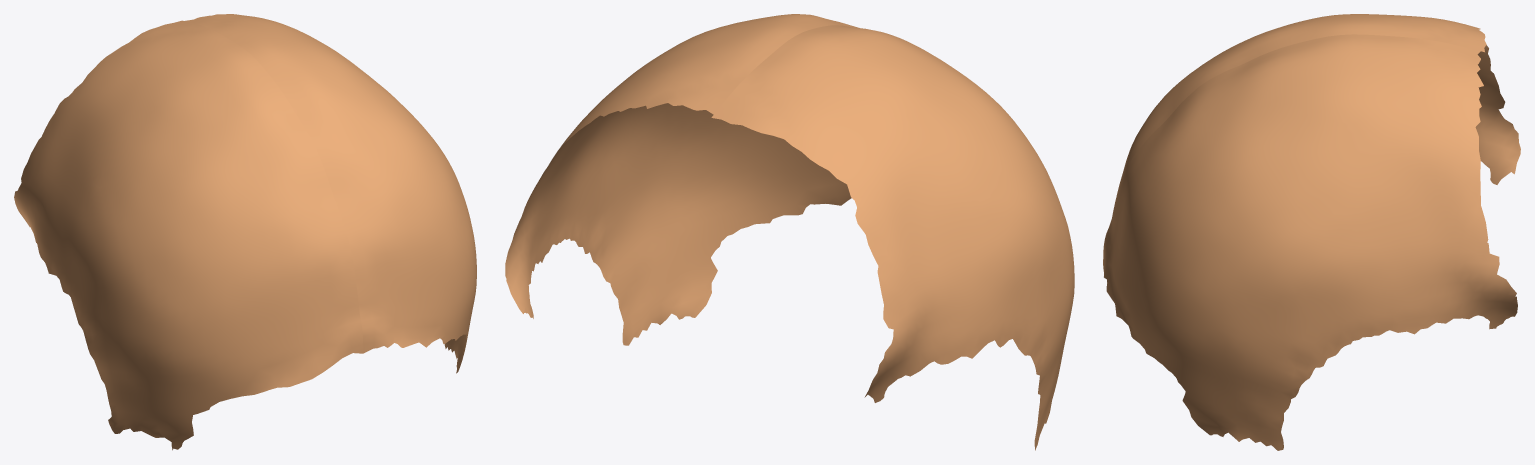
File: Parietale.fbx
The picture shows the model from 3 angles, left to right: view 1: azimuth 30°, elevation 25°; view 2: azimuth 150°, elevation 25°; view 3: azimuth 270°, elevation 25°; orthographic projection. The views are drawn at different scales.
Visible parts, largest first — view 1: Parietale; view 2: Parietale; view 3: Parietale.
Boxes of the visible parts, x1,y1,x2,y2 form: Parietale: (14, 14, 476, 450); Parietale: (505, 14, 1074, 450); Parietale: (1103, 14, 1520, 450).
Size of the model in its own units: 640 by 543 by 610.
